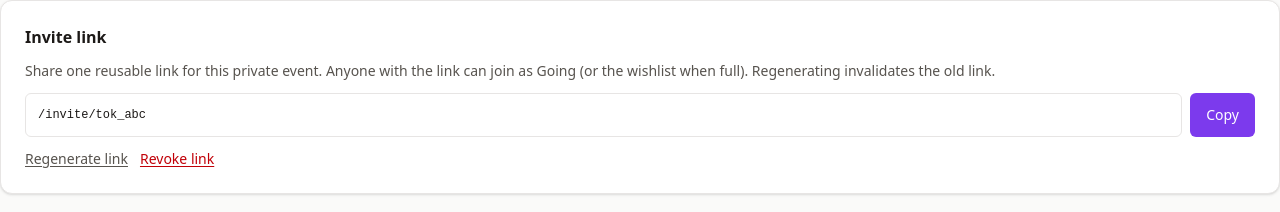
Test: InviteLinkManager › asks for confirmation before revoking
Click the button "Revoke link" at (177, 159), box [140,149,214,169]
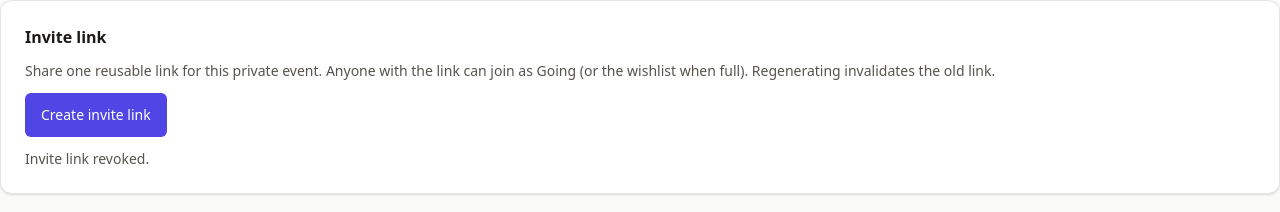
Expected: the text "Invite link revoked." is shown, [25,149,149,168]
